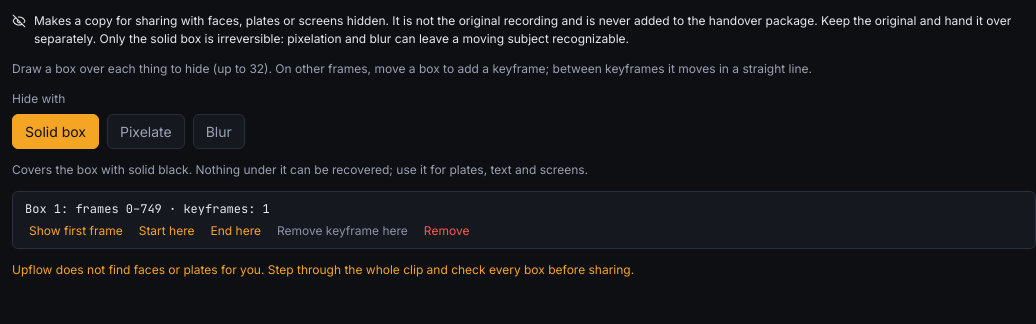
Test case: RedactionPanel › moves the start and the end of a box to the frame on screen
Click the button "End here": (236, 231) [206,222,265,240]
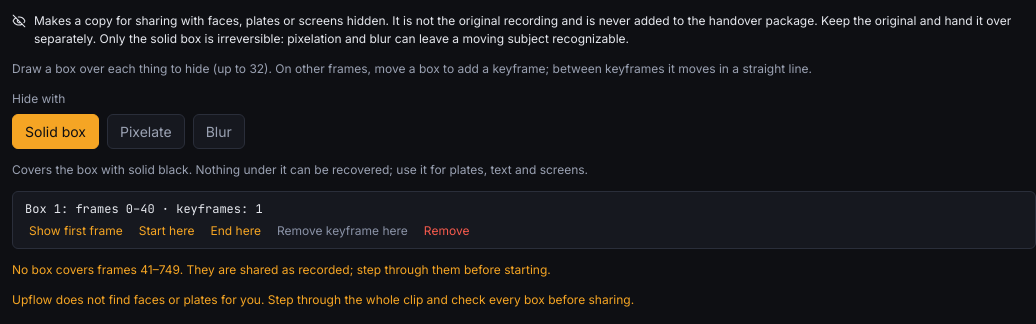
Expected: the text "Box 1: frames 0–40 · keyframes: 1" is shown, [25,201,263,217]
Click the button "Start here": (167, 231) [135,222,198,240]
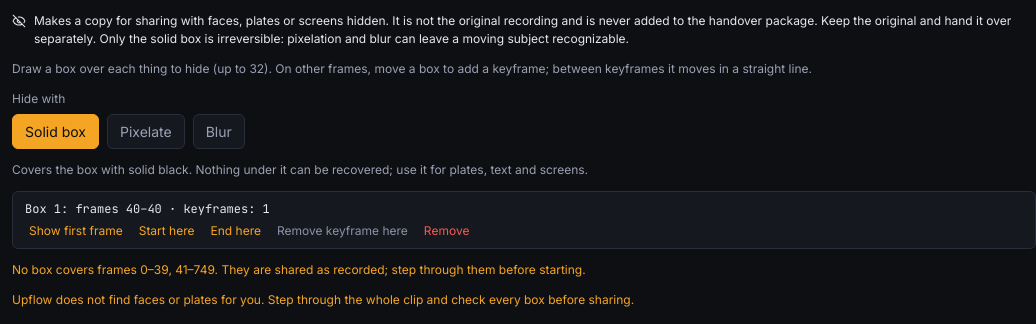
Expected: the text "Box 1: frames 40–40 · keyframes: 1" is shown, [25,201,270,217]
